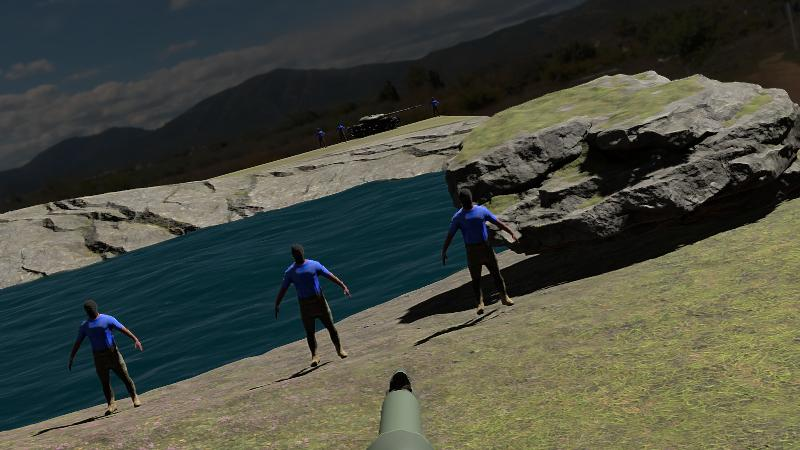Human: (442, 185, 516, 316), (274, 244, 349, 369), (69, 299, 142, 417)
